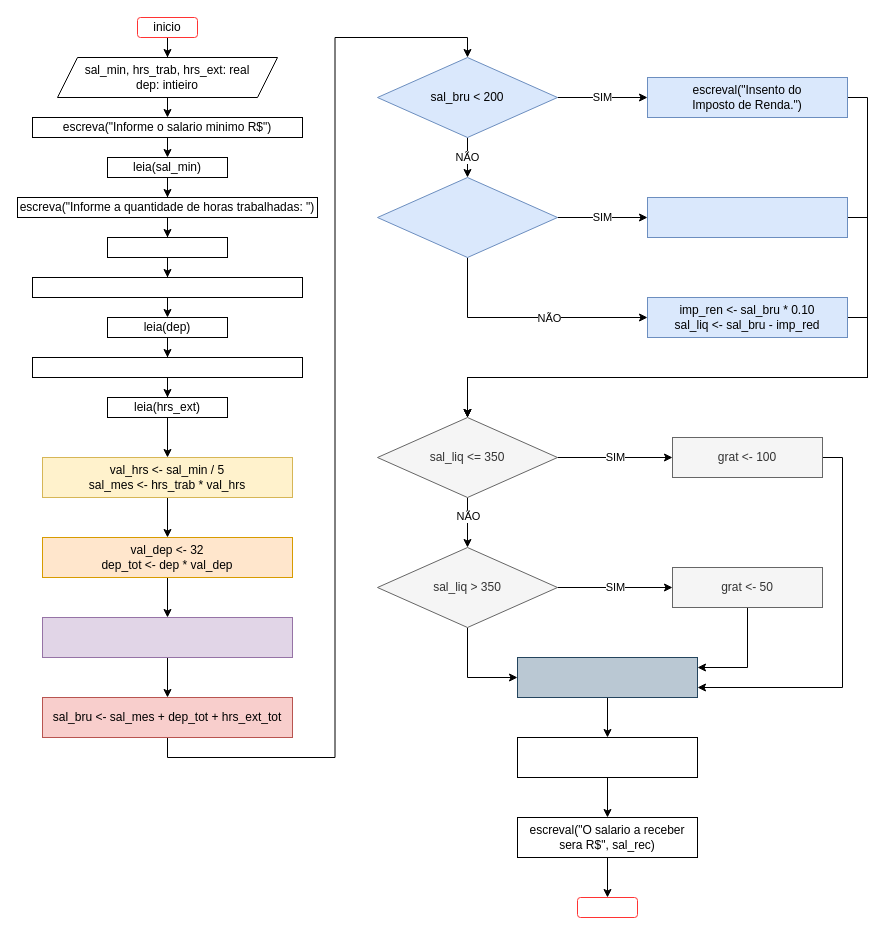
Image size: 893x935. Some labels were removed from this diagram. Each missing label, with the centre of its shape:
escreva("Informe a quantidade de horas extras: "): (x=167, y=367)
escreva("Informe o numero de dependentes: "): (x=167, y=287)
escreval("Relatorio"): (x=607, y=757)
fim: (x=607, y=907)
hrs_ext_val <- hrs_ext * 0.5 hrs_ext_tot <- hrs_ext + hrs_ext_val: (x=167, y=637)
imp_ren <- sal_bru * 0.20 sal_liq <- sal_bru - imp_red: (x=747, y=217)
leia(hrs_trab): (x=167, y=247)
sal_bru > 500: (x=467, y=217)
sal_rec <- sal_liq + grat: (x=607, y=677)
